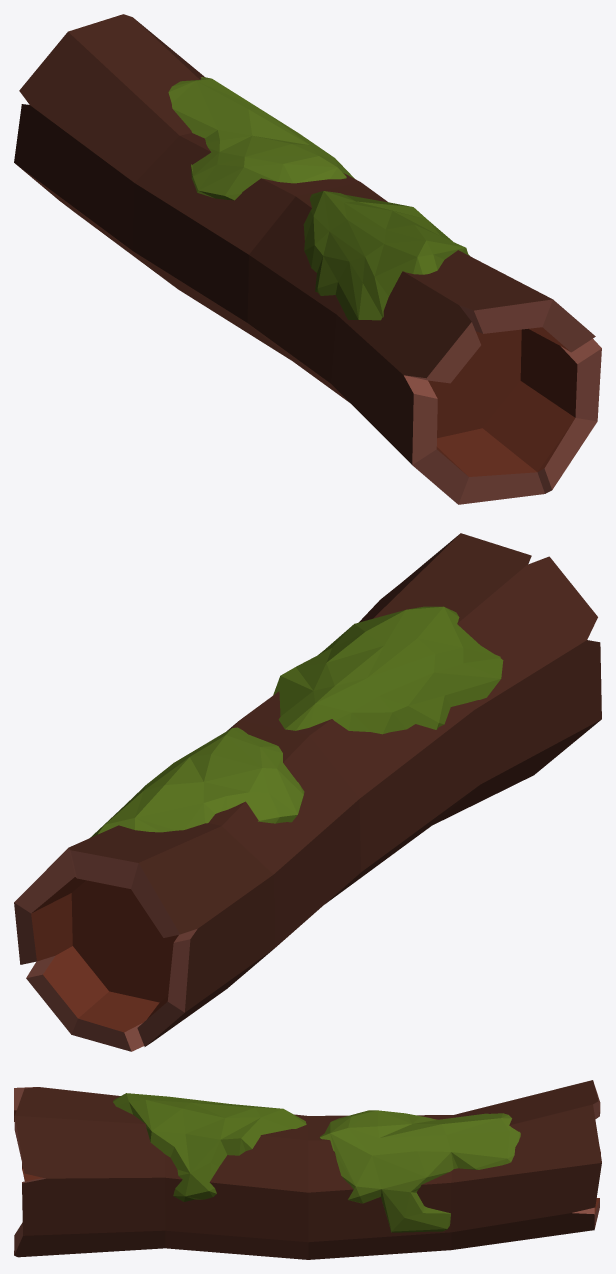
The model's file is Log_02.fbx.
The picture shows the model from 3 angles, top to bottom: view 1: azimuth 30°, elevation 25°; view 2: azimuth 150°, elevation 25°; view 3: azimuth 270°, elevation 25°; orthographic projection. The views are drawn at different scales.
Parts seen in each view (by area): view 1: Log_02; view 2: Log_02; view 3: Log_02.
Boxes of the visible parts, box(x1,y1,x2,y2) form: Log_02: box(14, 14, 601, 504); Log_02: box(14, 533, 601, 1051); Log_02: box(14, 1080, 601, 1259).
Size of the model in its own units: 0.8415 by 0.8197 by 2.98.
